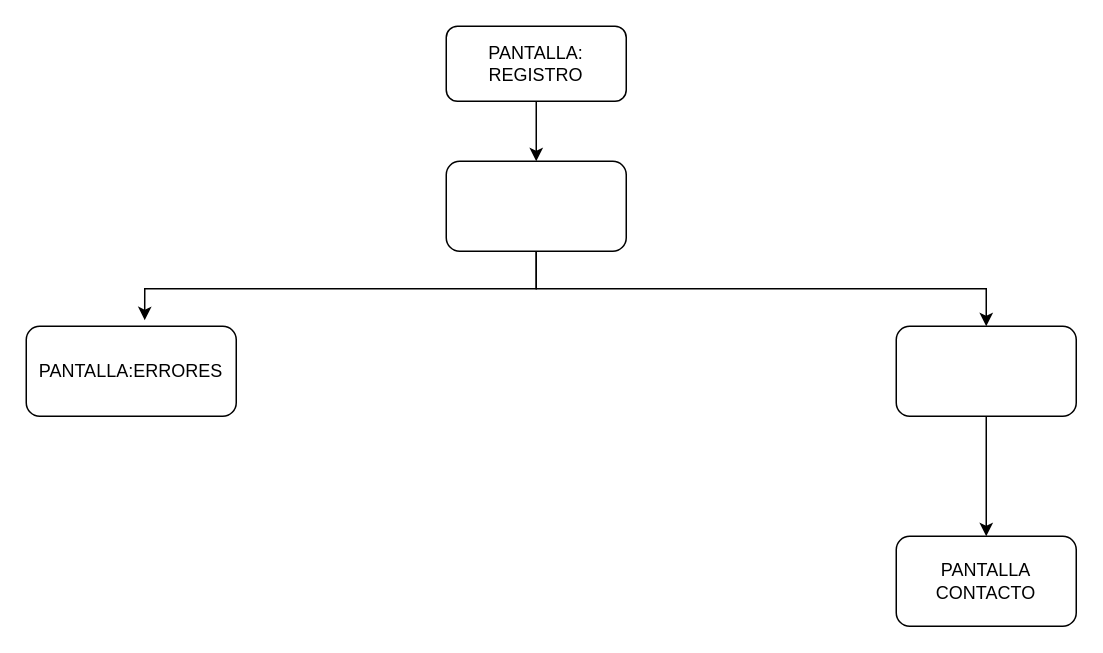
Image size: 1103x653. Some labels were removed from this diagram. Each missing label, with the centre of its shape:
"PANTALLA: INGRESO" goes at pixel 985 370.
"PANTALLA: LOGIN" goes at pixel 535 205.
